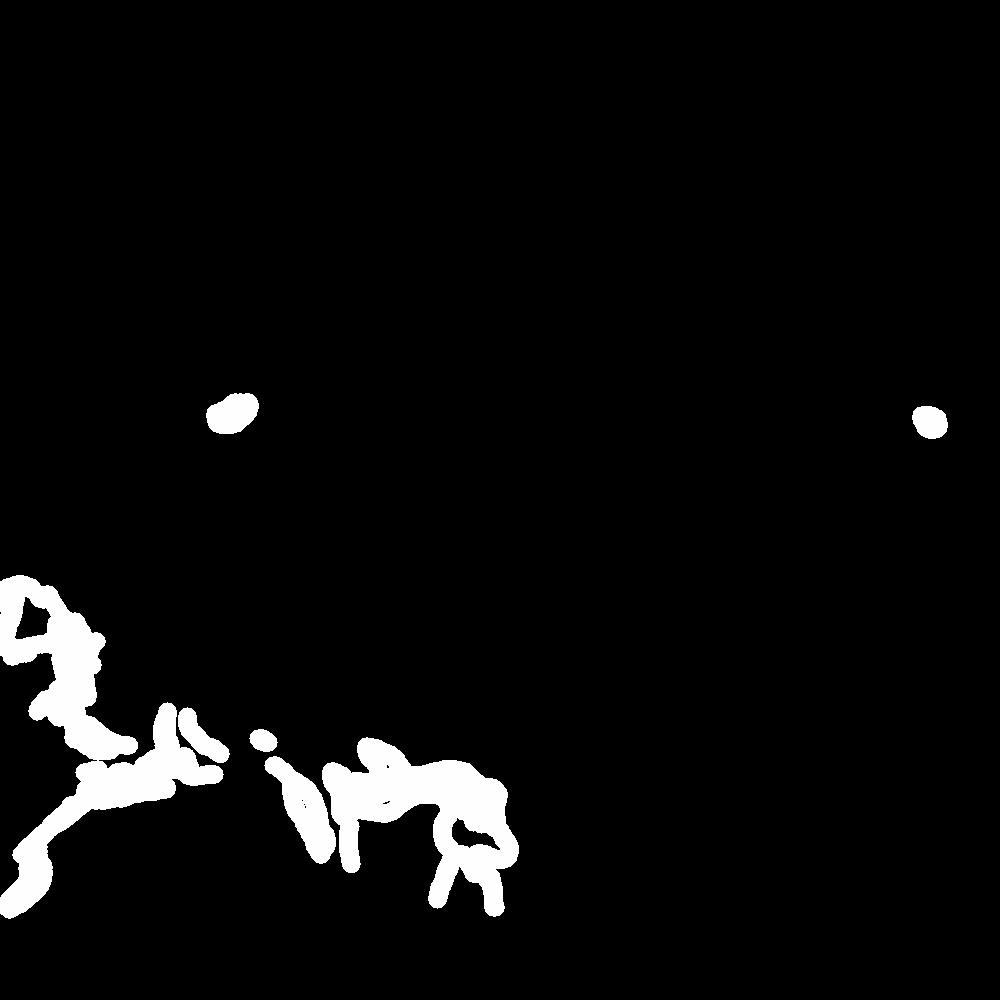illegal: (326, 736, 525, 919), (74, 727, 217, 808), (1, 580, 71, 669), (281, 760, 333, 865), (12, 809, 74, 897), (49, 690, 107, 758), (67, 630, 107, 679), (161, 703, 196, 734), (586, 679, 614, 707), (255, 735, 294, 753)
